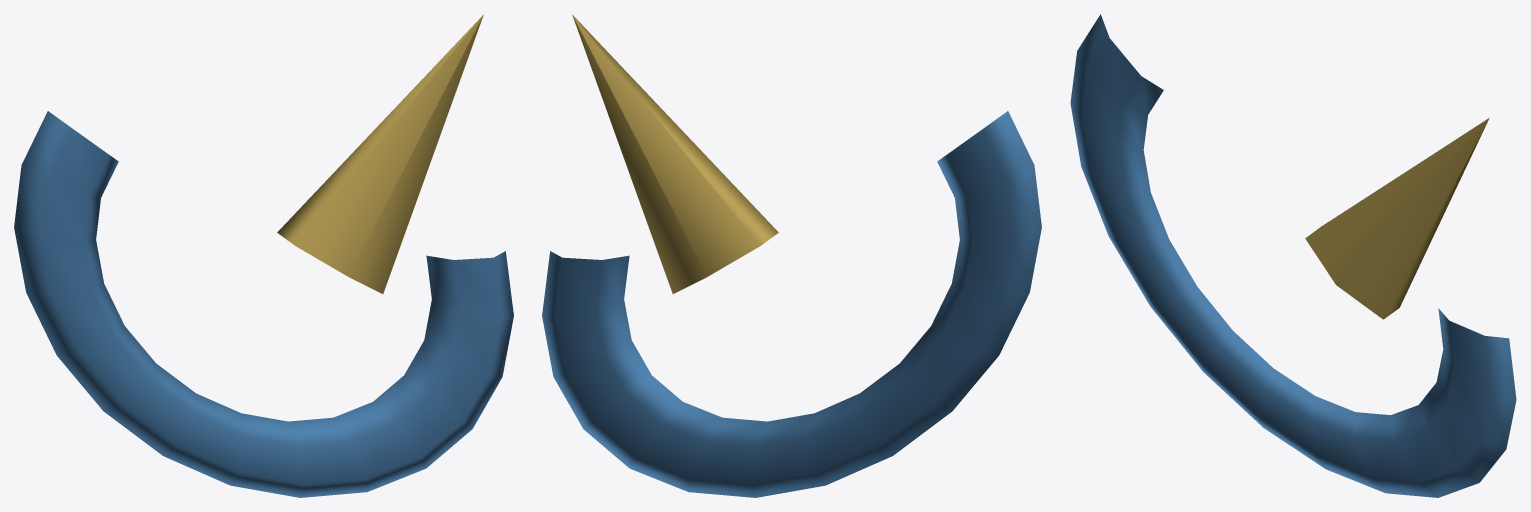
Rendered from wpn_r_03.glb.
3 views of the same model, side by side, from view 1: azimuth 30°, elevation 25°; view 2: azimuth 150°, elevation 25°; view 3: azimuth 330°, elevation 25° (orthographic). The views are drawn at different scales.
Parts seen in each view (by area): view 1: thrown_core, thrown_edge; view 2: thrown_core, thrown_edge; view 3: thrown_core, thrown_edge.
Part boxes in pixels (x1,y1,x2,y2): thrown_core: (14, 111, 513, 497); thrown_edge: (277, 14, 483, 293); thrown_core: (542, 111, 1041, 497); thrown_edge: (572, 14, 778, 293); thrown_core: (1070, 14, 1516, 497); thrown_edge: (1305, 118, 1489, 319).
Bounding box in the file's own units: 0.6288 × 0.552 × 0.08.
